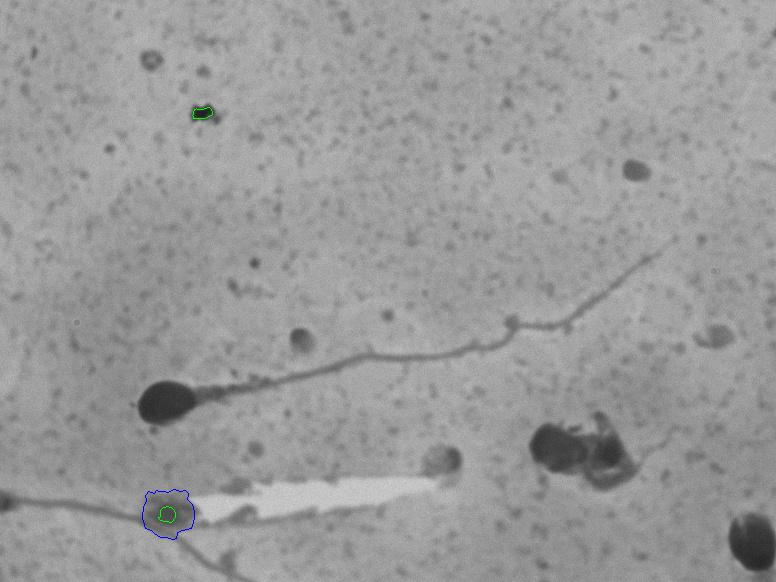Abnormal: (109, 221, 694, 447)
